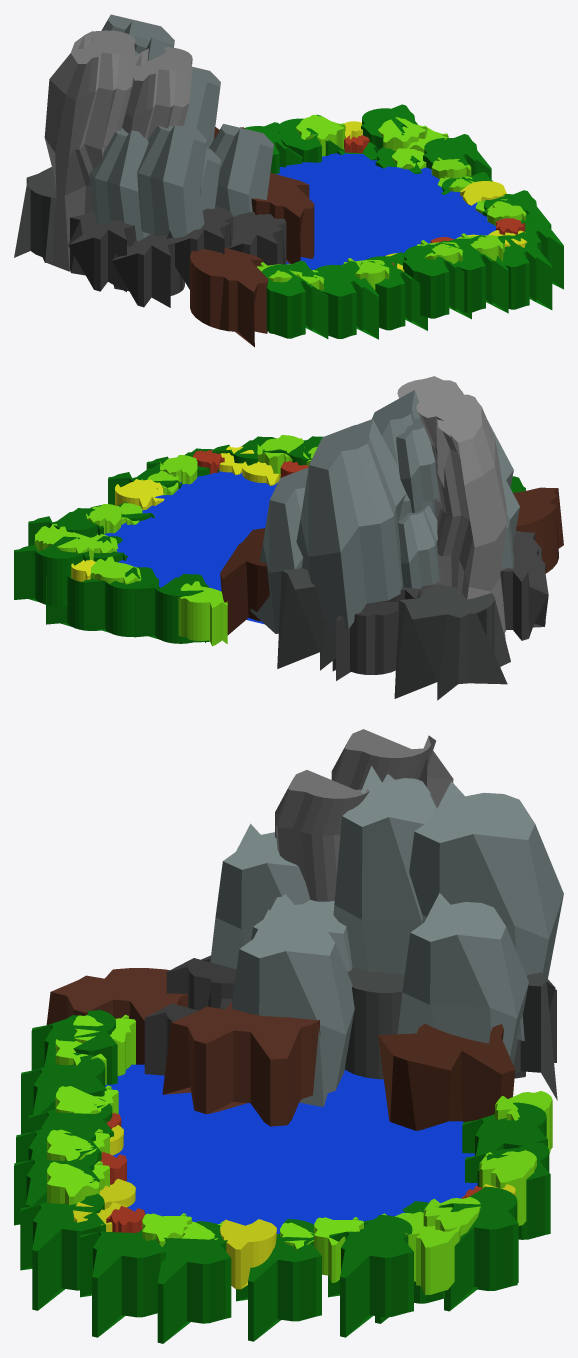
File: waterfall.fbx
The picture shows the model from 3 angles, top to bottom: view 1: azimuth 30°, elevation 25°; view 2: azimuth 150°, elevation 25°; view 3: azimuth 270°, elevation 25°; orthographic projection. The views are drawn at different scales.
Visible parts, largest first — view 1: Plane, Cylinder.011, Cylinder.018, Cylinder.024, Cylinder.013, Cylinder.001, Cylinder.019, Cylinder.042, Cylinder.017, Cylinder.016, Cylinder.031, Cylinder.004 (+27 smaller); view 2: Cylinder.008, Cylinder.011, Plane, Cylinder.012, Cylinder.002, Cylinder.007, Cylinder.022, Cylinder.017, Cylinder.051, Cylinder.003, Cylinder.036, Cylinder.034 (+22 smaller); view 3: Plane, Cylinder.008, Cylinder.002, Cylinder.004, Cylinder.014, Cylinder.001, Cylinder.003, Cylinder.059, Cylinder.018, Cylinder.013, Cylinder.062, Cylinder.061 (+30 smaller).
Boxes of the visible parts, bbox=[...] form: Plane: bbox=[276, 153, 495, 269]; Cylinder.011: bbox=[44, 30, 135, 271]; Cylinder.018: bbox=[137, 125, 206, 238]; Cylinder.024: bbox=[190, 248, 268, 347]; Cylinder.013: bbox=[122, 47, 192, 139]; Cylinder.001: bbox=[209, 124, 273, 216]; Cylinder.019: bbox=[89, 128, 150, 240]; Cylinder.042: bbox=[261, 260, 328, 338]; Cylinder.017: bbox=[68, 210, 136, 291]; Cylinder.016: bbox=[112, 234, 184, 307]; Cylinder.031: bbox=[313, 261, 378, 339]; Cylinder.004: bbox=[251, 173, 314, 264]; Cylinder.008: bbox=[296, 419, 406, 631]; Cylinder.011: bbox=[416, 390, 506, 639]; Plane: bbox=[104, 471, 277, 624]; Cylinder.012: bbox=[394, 584, 510, 700]; Cylinder.002: bbox=[250, 468, 308, 633]; Cylinder.007: bbox=[277, 568, 368, 670]; Cylinder.022: bbox=[332, 601, 399, 680]; Cylinder.017: bbox=[500, 545, 548, 640]; Cylinder.051: bbox=[14, 536, 89, 606]; Cylinder.003: bbox=[220, 528, 269, 635]; Cylinder.036: bbox=[84, 567, 159, 636]; Cylinder.034: bbox=[134, 573, 209, 643]; Plane: bbox=[105, 1064, 477, 1233]; Cylinder.008: bbox=[409, 781, 563, 1040]; Cylinder.002: bbox=[397, 893, 528, 1064]; Cylinder.004: bbox=[162, 1002, 320, 1126]; Cylinder.014: bbox=[333, 765, 436, 974]; Cylinder.001: bbox=[231, 909, 354, 1106]; Cylinder.003: bbox=[378, 1023, 515, 1130]; Cylinder.059: bbox=[328, 1215, 413, 1337]; Cylinder.018: bbox=[210, 823, 310, 969]; Cylinder.013: bbox=[275, 770, 369, 901]; Cylinder.062: bbox=[80, 1229, 165, 1337]; Cylinder.061: bbox=[156, 1221, 231, 1343].
Bounding box in the file's own units: 1810 × 1015 × 1398.
